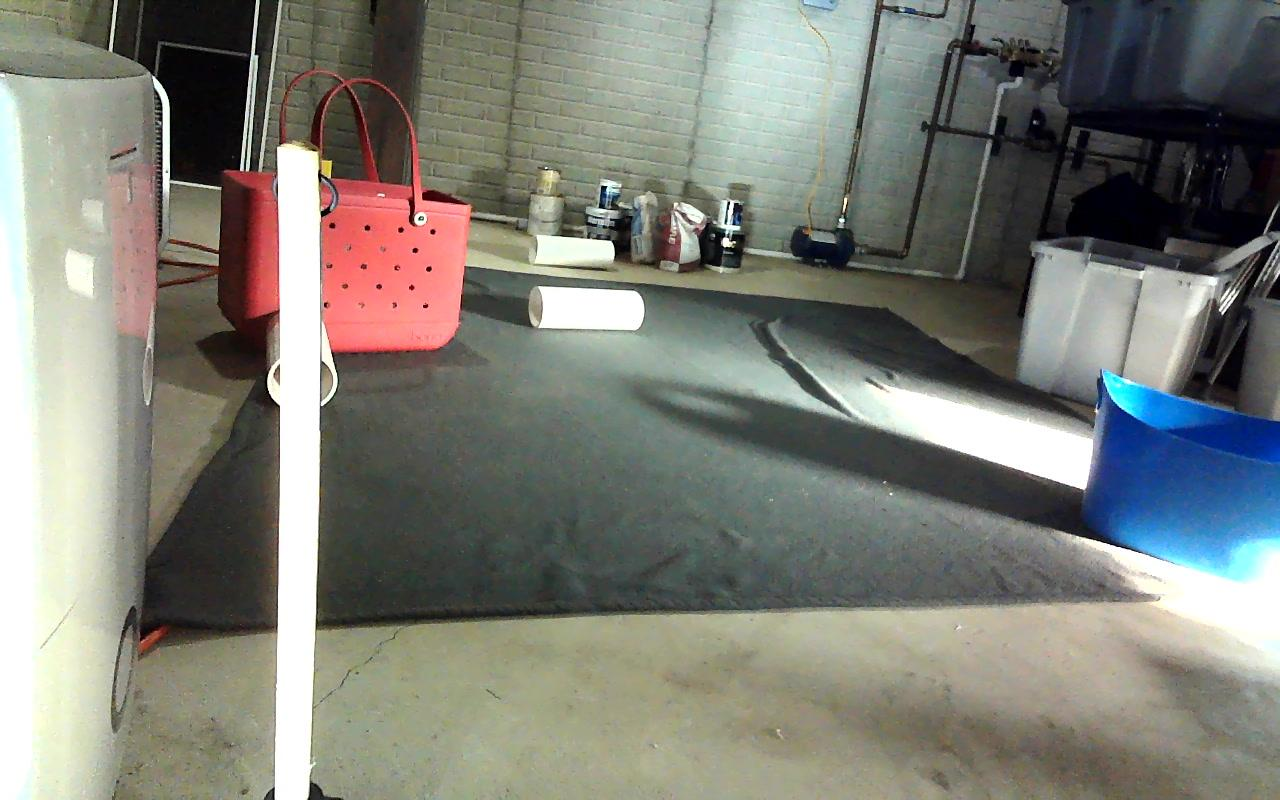coral: (267, 310, 336, 407), (529, 284, 641, 330), (533, 237, 614, 268)
